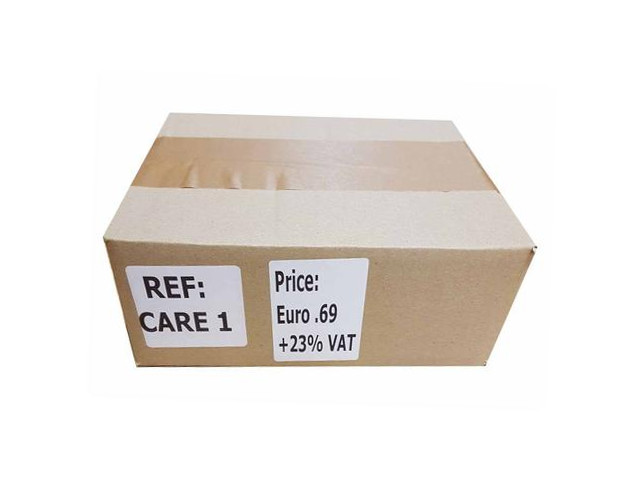cardboard: (100, 111, 536, 364)
